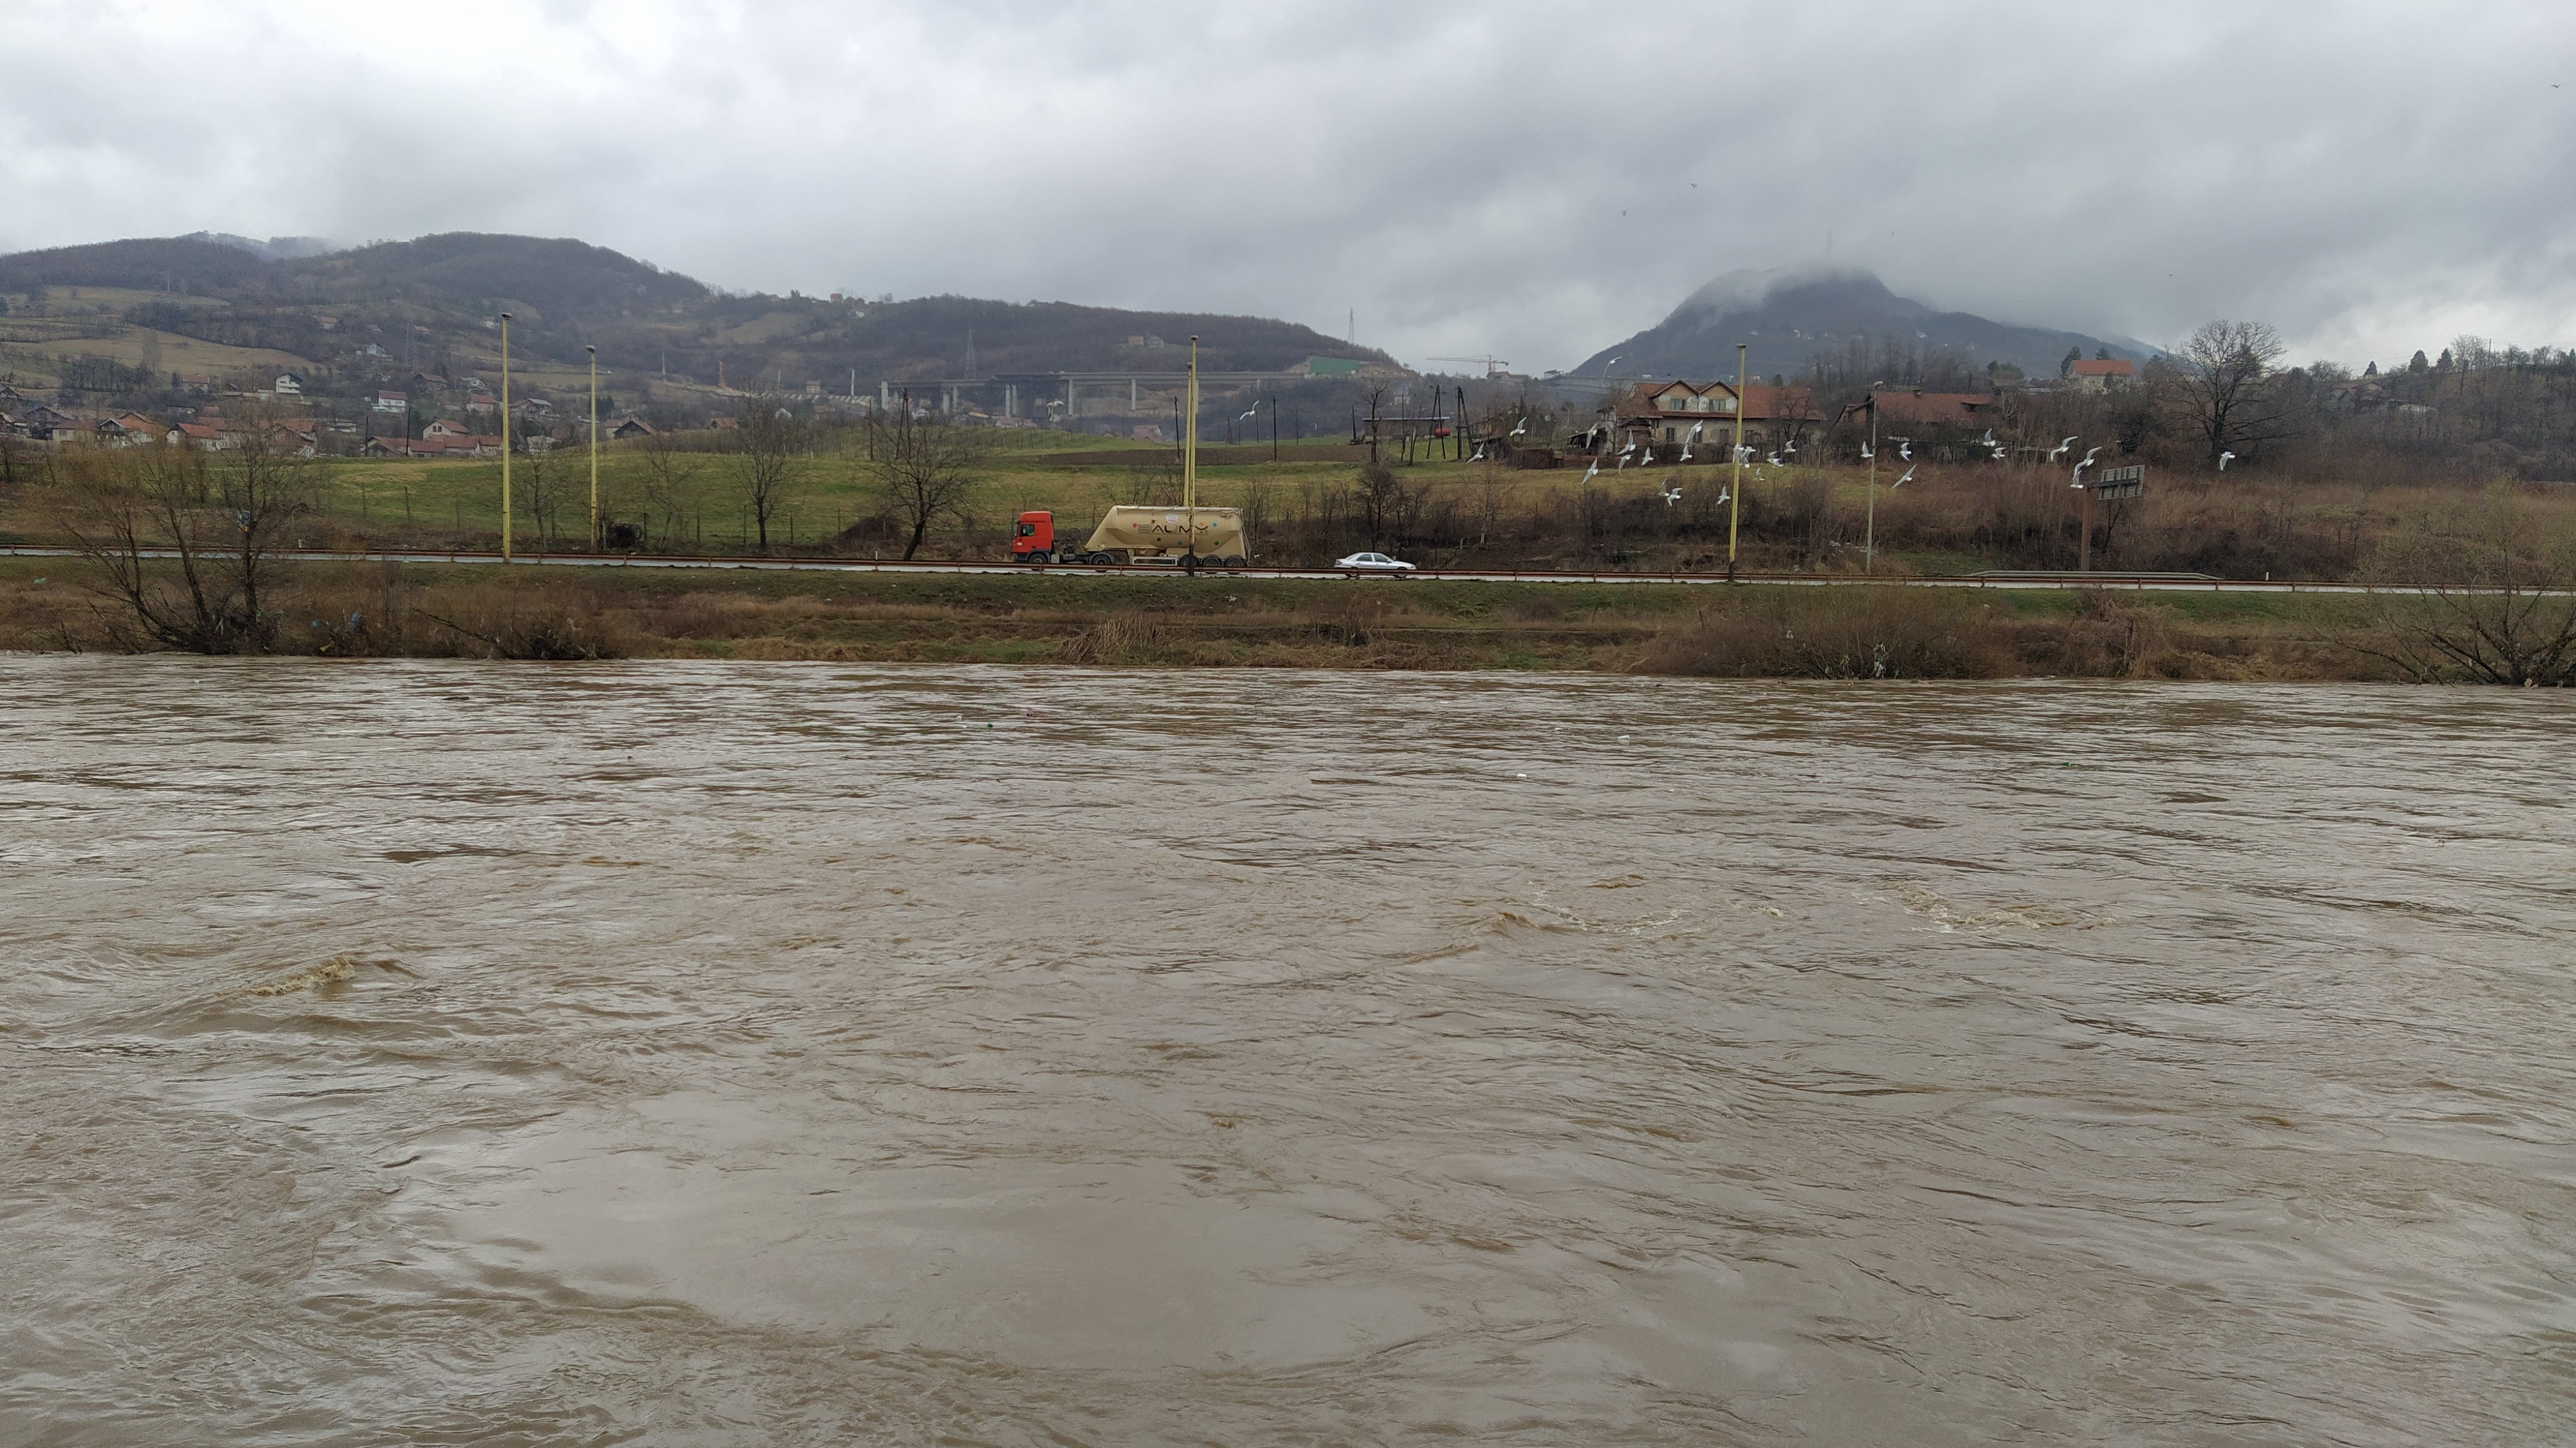Plastic Bottle: (1619, 733, 1626, 738), (2061, 761, 2070, 765), (955, 715, 962, 719), (1555, 726, 1562, 729), (987, 722, 993, 726), (1028, 712, 1031, 717), (1518, 774, 1527, 775), (1440, 701, 1447, 703)
